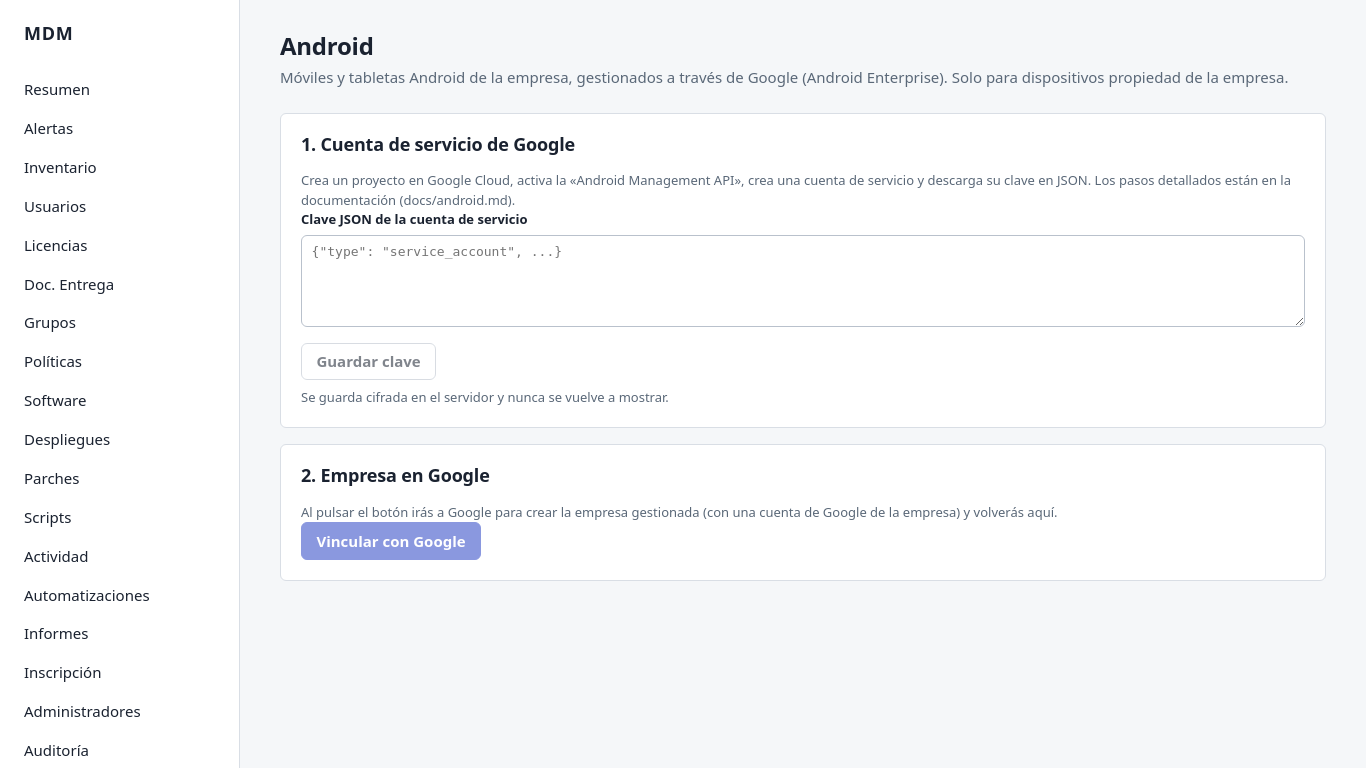
Test: Integración con Android › sin clave pide subirla; al guardarla envía el JSON
Click the text box labelled "Clave JSON de la cuenta de servicio".
click(803, 281)  # box [301, 235, 1305, 327]
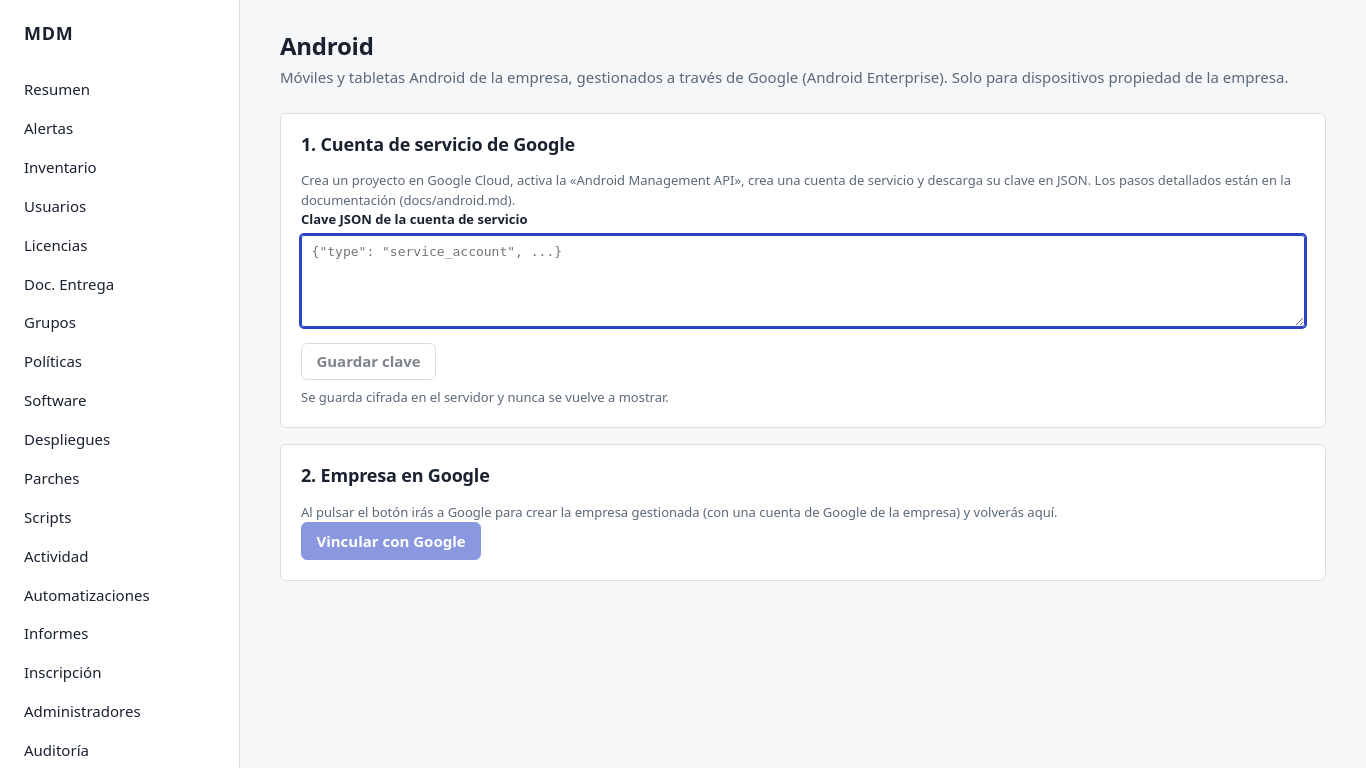
Type keys "{\"type\":\"service_account\"}"
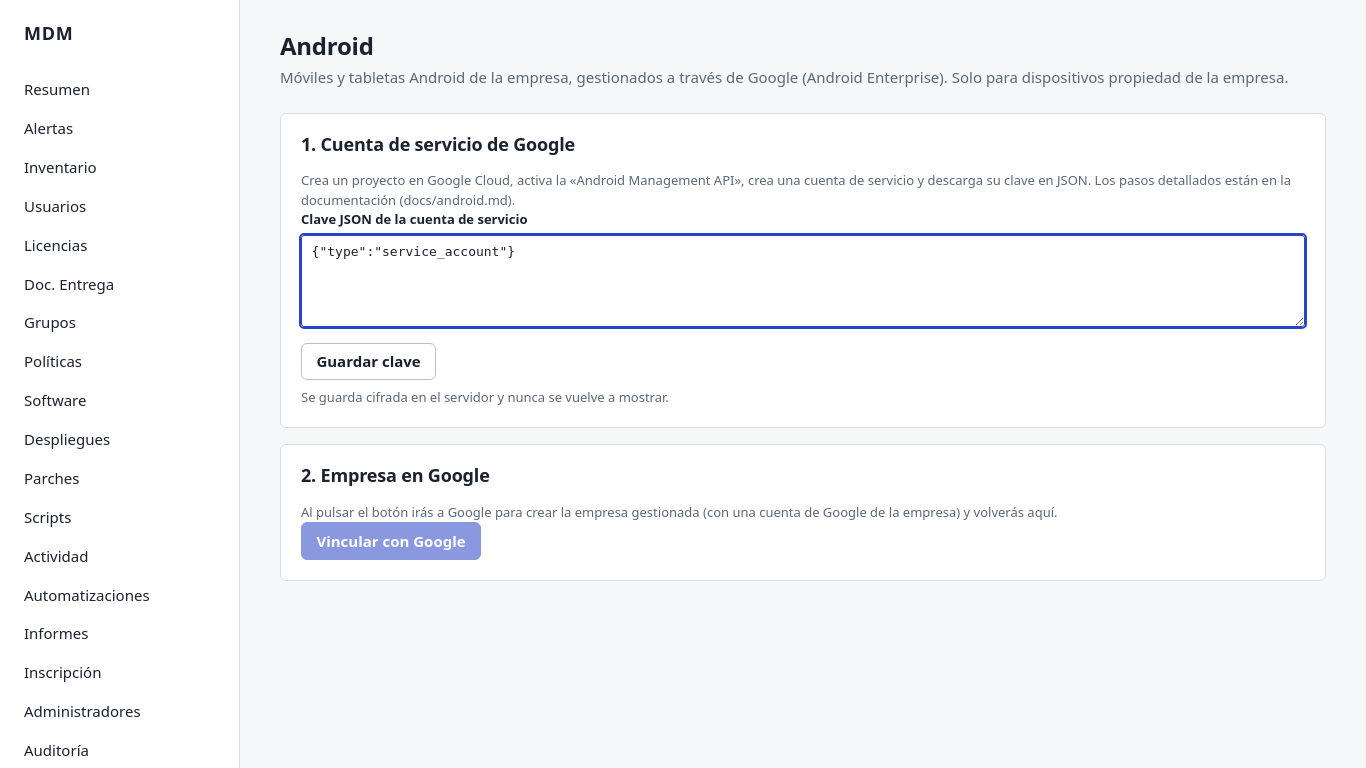
Click the button "Guardar clave".
click(369, 361)  # box [301, 342, 436, 380]
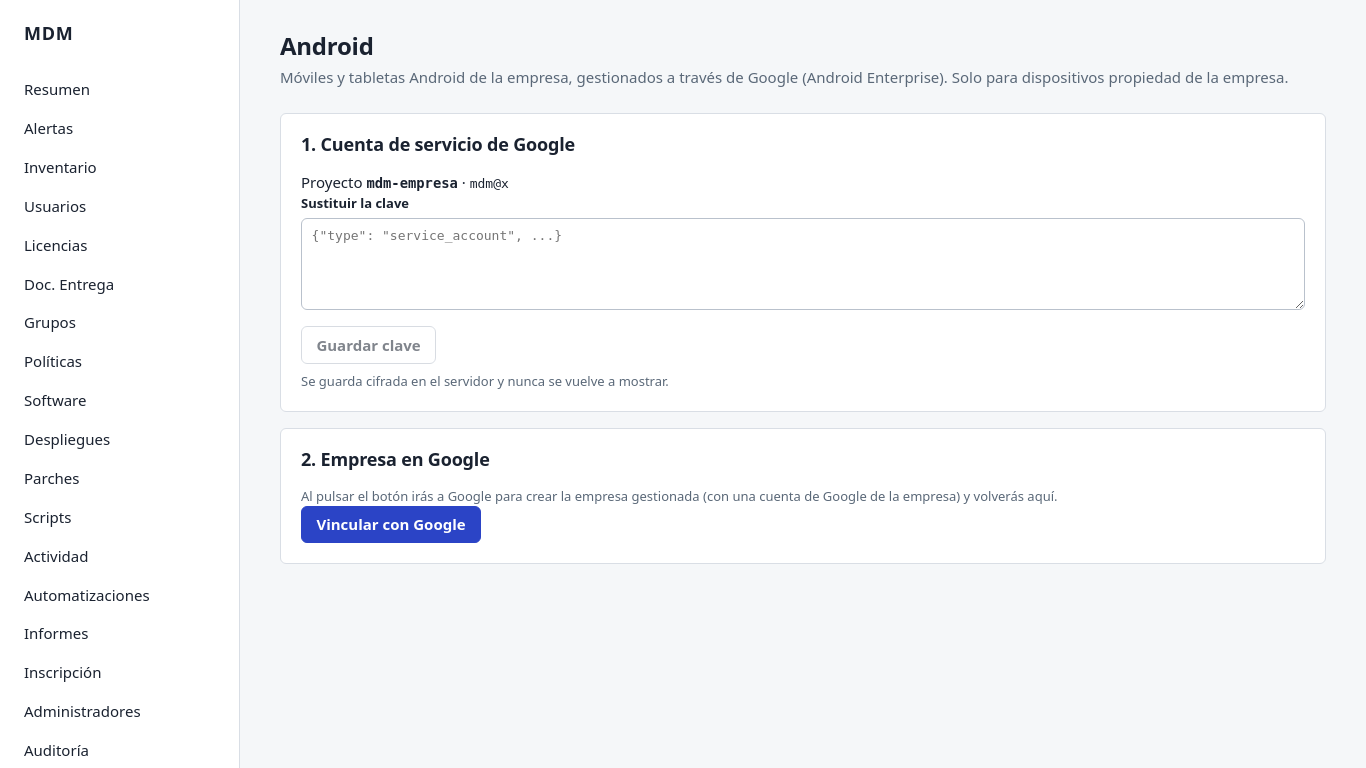
Expected: the text "mdm-empresa" is shown, [366, 176, 458, 192]
